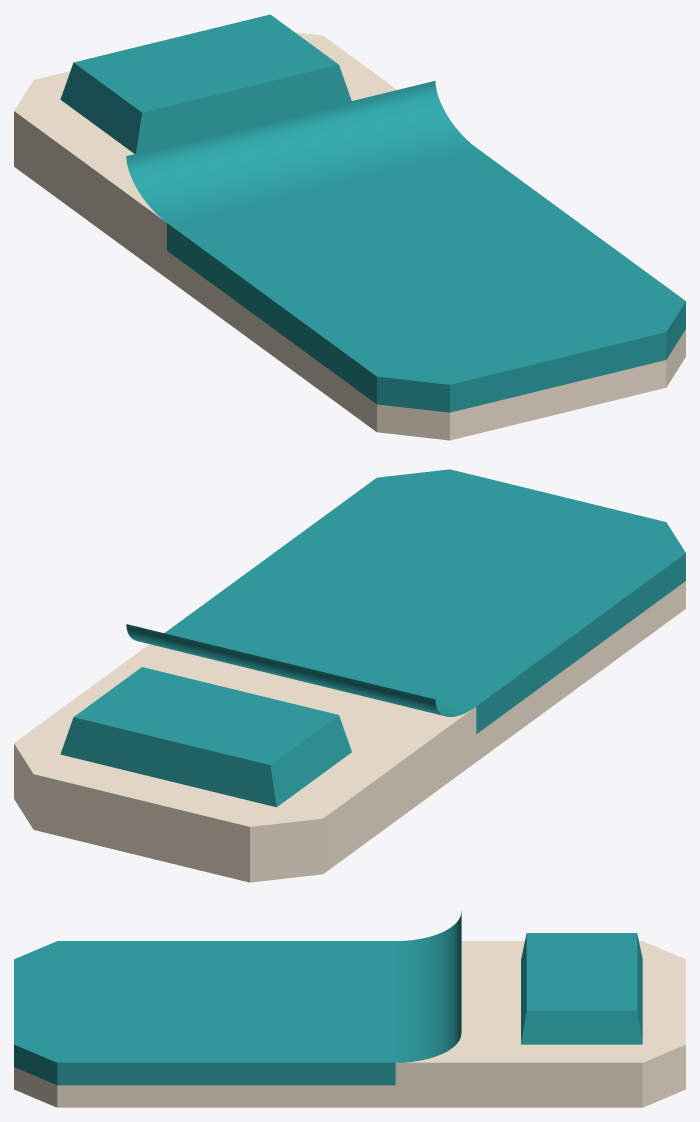
Rendered from bed_floor.obj.
The picture shows the model from 3 angles, top to bottom: view 1: azimuth 30°, elevation 25°; view 2: azimuth 150°, elevation 25°; view 3: azimuth 270°, elevation 25°; orthographic projection. The views are drawn at different scales.
Parts seen in each view (by area): view 1: bed_floor; view 2: bed_floor; view 3: bed_floor.
Part boxes in pixels (left/top/right/bottom): bed_floor: left=14, top=14, right=685, bottom=440; bed_floor: left=14, top=469, right=685, bottom=882; bed_floor: left=14, top=911, right=685, bottom=1107.
Bounding box in the file's own units: 0.3203 × 0.0921 × 0.7473.
